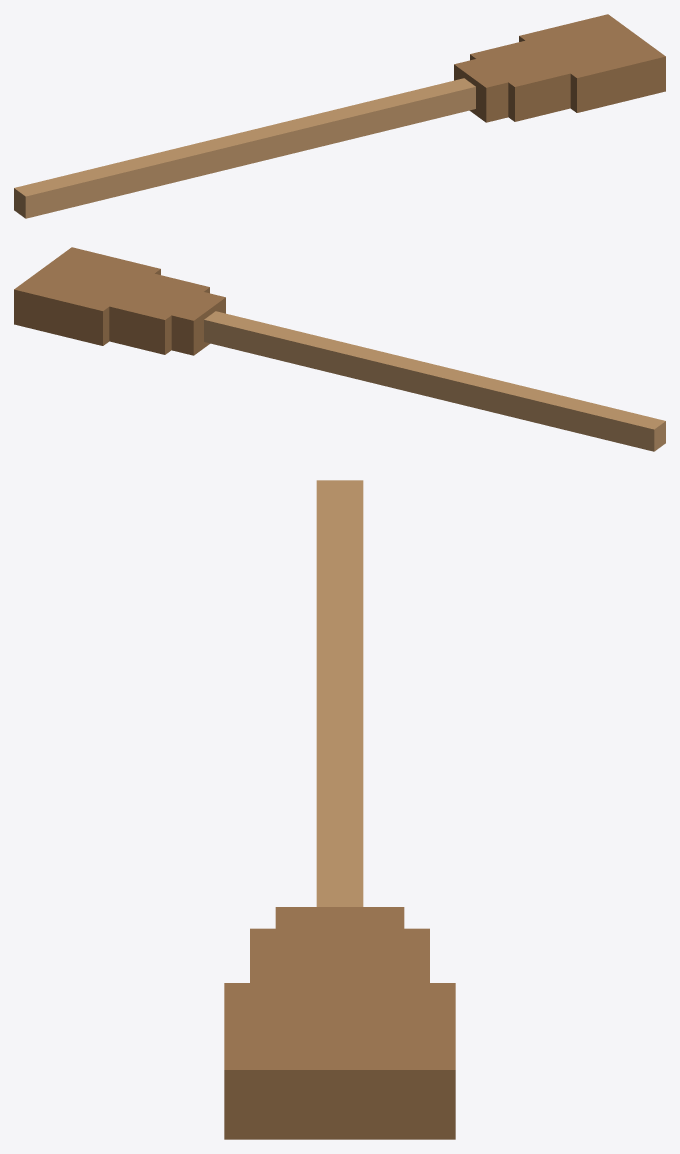
File: DM_Paddle.fbx
3 renders of one model, top to bottom at view 1: azimuth 30°, elevation 25°; view 2: azimuth 150°, elevation 25°; view 3: azimuth 270°, elevation 25°, orthographic. The views are drawn at different scales.
Visible parts, largest first — view 1: DM_Paddle; view 2: DM_Paddle; view 3: DM_Paddle.
Boxes of the visible parts, x1,y1,x2,y2 form: DM_Paddle: (14,14,665,218); DM_Paddle: (14,247,665,451); DM_Paddle: (224,480,455,1139).
Bounding box in the file's own units: 3.77 × 0.6121 × 0.204.
